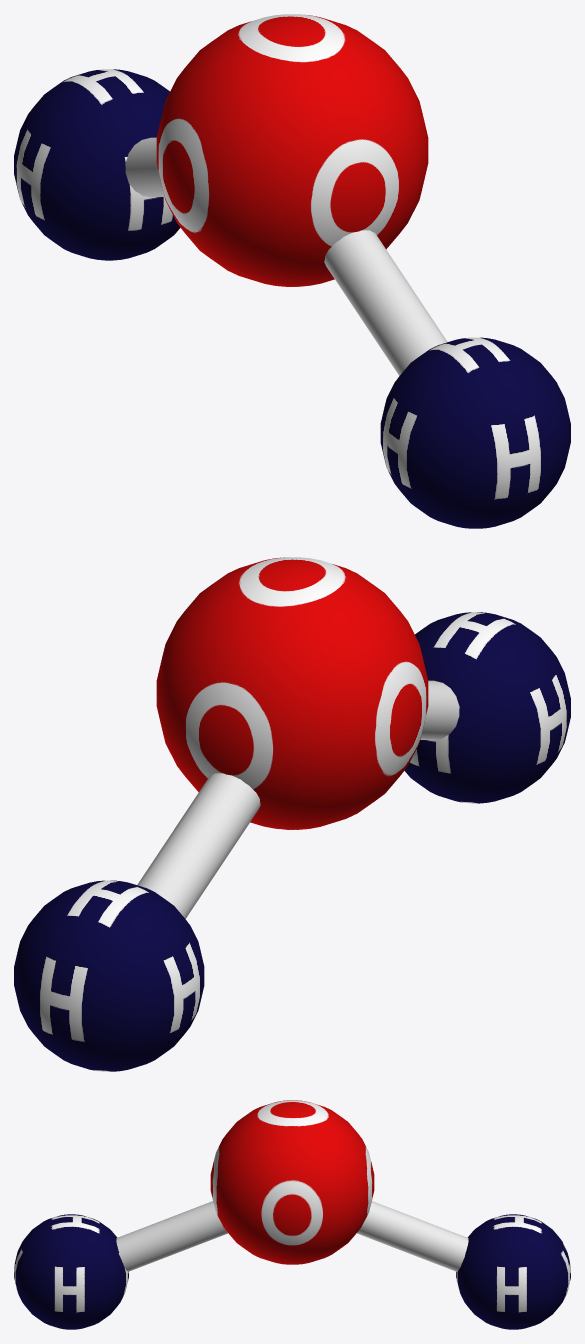
The model's file is H2O_tex2.FBX.
3 renders of one model, top to bottom at view 1: azimuth 30°, elevation 25°; view 2: azimuth 150°, elevation 25°; view 3: azimuth 270°, elevation 25°, orthographic. The views are drawn at different scales.
Visible parts, largest first — view 1: Sphere001, H1, H002, Cylinder001, Cylinder002; view 2: Sphere001, H002, H1, Cylinder002, Cylinder001; view 3: Sphere001, H1, H002, Cylinder001, Cylinder002.
Part boxes in pixels (bbox=[...]): Sphere001: bbox=[156, 14, 428, 286]; H1: bbox=[380, 337, 570, 528]; H002: bbox=[14, 69, 180, 260]; Cylinder001: bbox=[324, 230, 447, 375]; Cylinder002: bbox=[125, 137, 164, 197]; Sphere001: bbox=[156, 557, 428, 829]; H002: bbox=[14, 880, 204, 1071]; H1: bbox=[404, 612, 570, 803]; Cylinder002: bbox=[137, 773, 260, 918]; Cylinder001: bbox=[420, 680, 459, 740]; Sphere001: bbox=[210, 1100, 374, 1264]; H1: bbox=[14, 1214, 128, 1329]; H002: bbox=[456, 1214, 570, 1329]; Cylinder001: bbox=[116, 1201, 227, 1271]; Cylinder002: bbox=[357, 1201, 468, 1271].
Size of the model in its own units: 39.56 by 58.02 by 135.
Materials: 2 (2 with a texture image).
